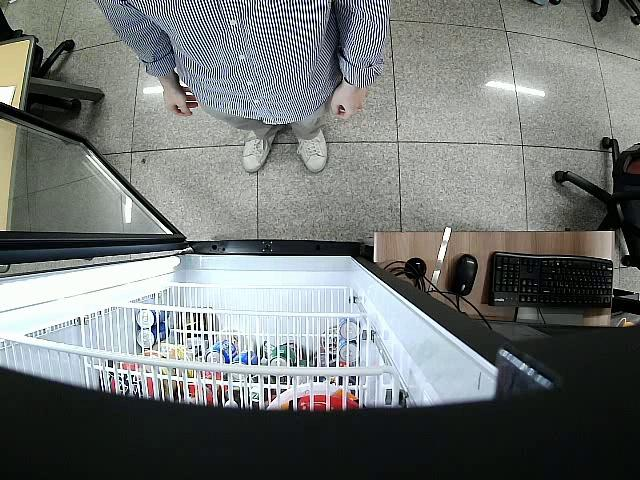00_hand: (330, 88, 367, 121), (163, 86, 198, 119)
